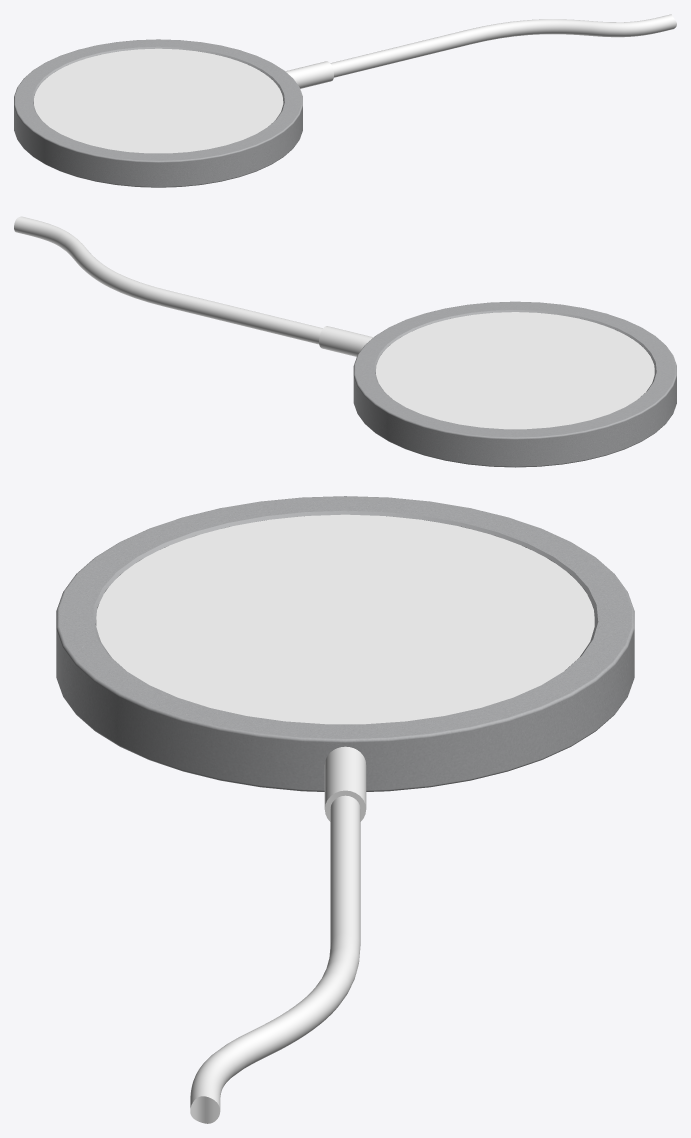
Rendered from magSafe.model.glb.
The picture shows the model from 3 angles, top to bottom: view 1: azimuth 30°, elevation 25°; view 2: azimuth 150°, elevation 25°; view 3: azimuth 270°, elevation 25°; orthographic projection. The views are drawn at different scales.
Parts seen in each view (by area): view 1: Object_3, Object_2, Object_4; view 2: Object_3, Object_2, Object_4; view 3: Object_3, Object_2, Object_4.
Part boxes in pixels (x1,y1,x2,y2): Object_3: [34, 48, 283, 153]; Object_2: [14, 39, 302, 187]; Object_4: [285, 14, 676, 88]; Object_3: [376, 312, 654, 429]; Object_2: [353, 301, 676, 467]; Object_4: [14, 216, 373, 356]; Object_3: [96, 514, 594, 724]; Object_2: [56, 496, 634, 791]; Object_4: [190, 746, 366, 1123].
Size of the model in its own units: 135 by 5.7 by 55.74.
Materials: 2 (1 with a texture image).
